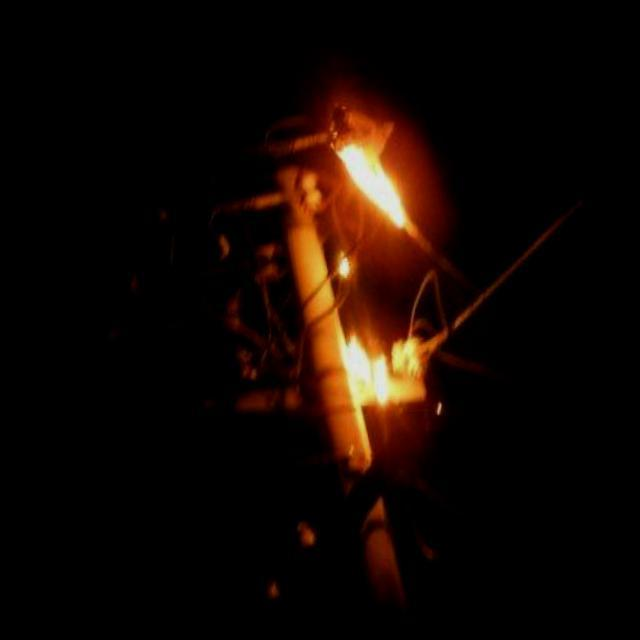Fire: (324, 114, 414, 246), (312, 335, 423, 417)
